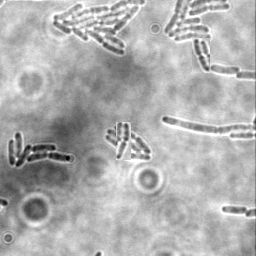Dividing: (161, 114, 255, 133), (192, 38, 210, 73), (116, 122, 131, 160), (221, 204, 248, 215)
Microcolony: (51, 1, 147, 56), (162, 1, 231, 44), (8, 130, 72, 167), (106, 124, 153, 160), (208, 63, 240, 74)
